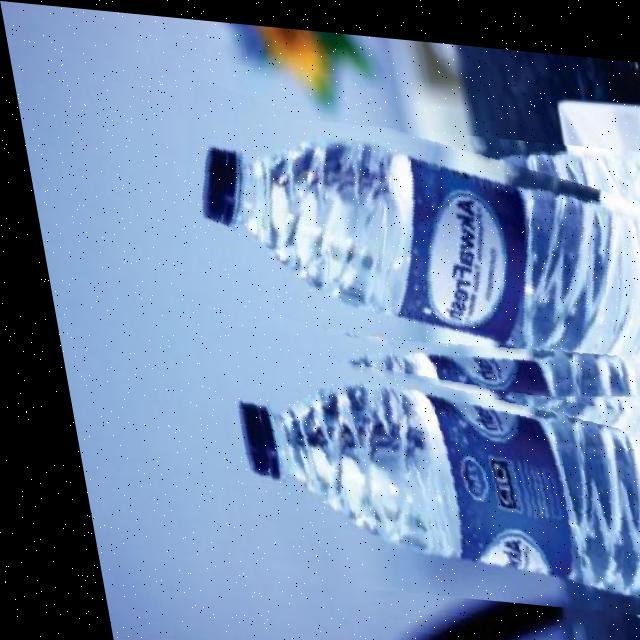plasticbottle: (143, 101, 640, 430)
plasticbottlecap: (185, 333, 640, 610), (190, 327, 301, 534), (155, 191, 265, 306)
